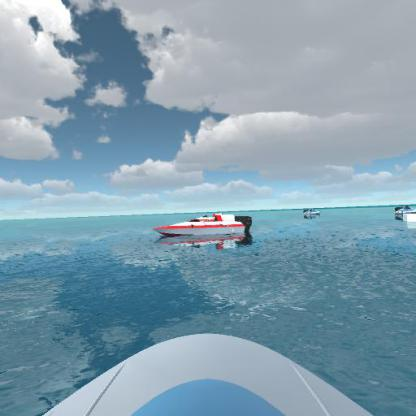usv1: (389, 200, 416, 221), (299, 202, 323, 220)
usv3: (154, 210, 261, 248)
